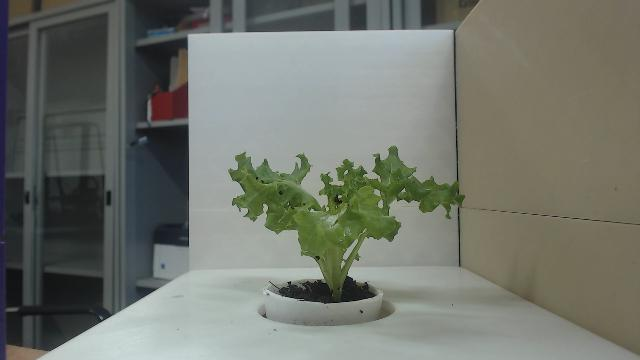Vegetative Stage: (228, 144, 466, 302)
